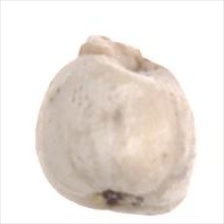L3: (70, 33, 164, 71)
L4: (35, 33, 195, 216)
